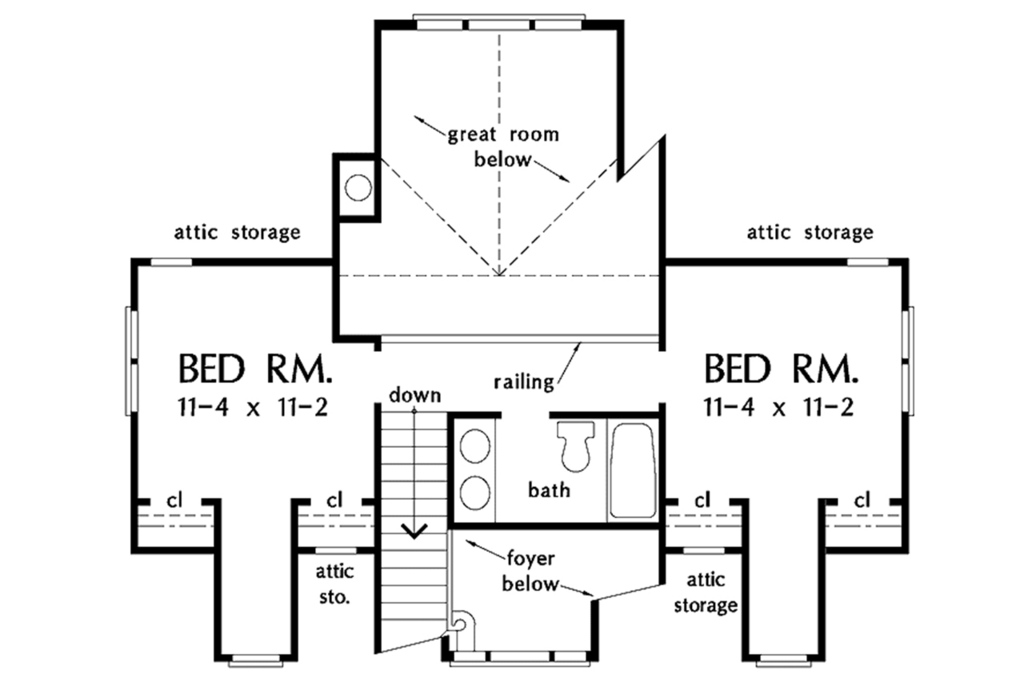large_sink: (554, 413, 599, 480)
small_sink: (447, 417, 501, 522)
stairs: (377, 399, 449, 661)
tub: (599, 414, 661, 525)
window: (411, 8, 586, 37), (116, 300, 146, 415), (222, 644, 287, 667), (902, 308, 916, 413), (758, 651, 812, 669)
